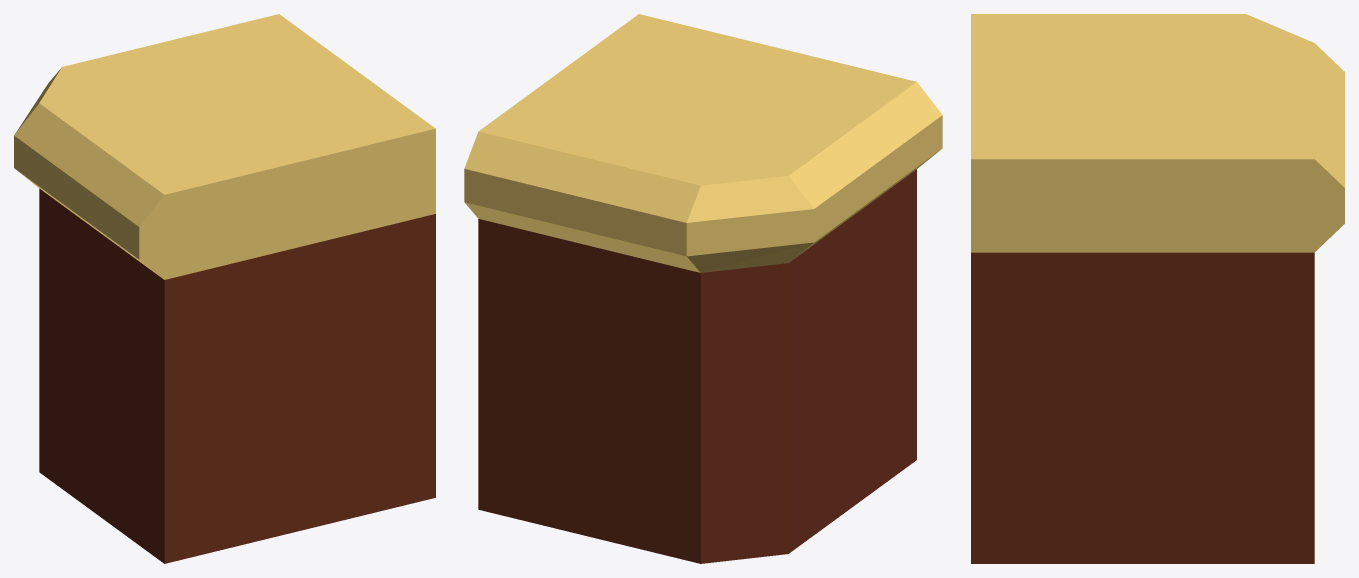
Rendered from SandCorner.fbx.
The picture shows the model from 3 angles, left to right: view 1: azimuth 30°, elevation 25°; view 2: azimuth 150°, elevation 25°; view 3: azimuth 270°, elevation 25°; orthographic projection. The views are drawn at different scales.
Visible parts, largest first — view 1: Corner; view 2: Corner; view 3: Corner.
Part boxes in pixels (x1,y1,x2,y2): Corner: (14, 14, 435, 563); Corner: (464, 14, 942, 563); Corner: (971, 14, 1344, 563).
Size of the model in its own units: 109 by 130 by 109.
